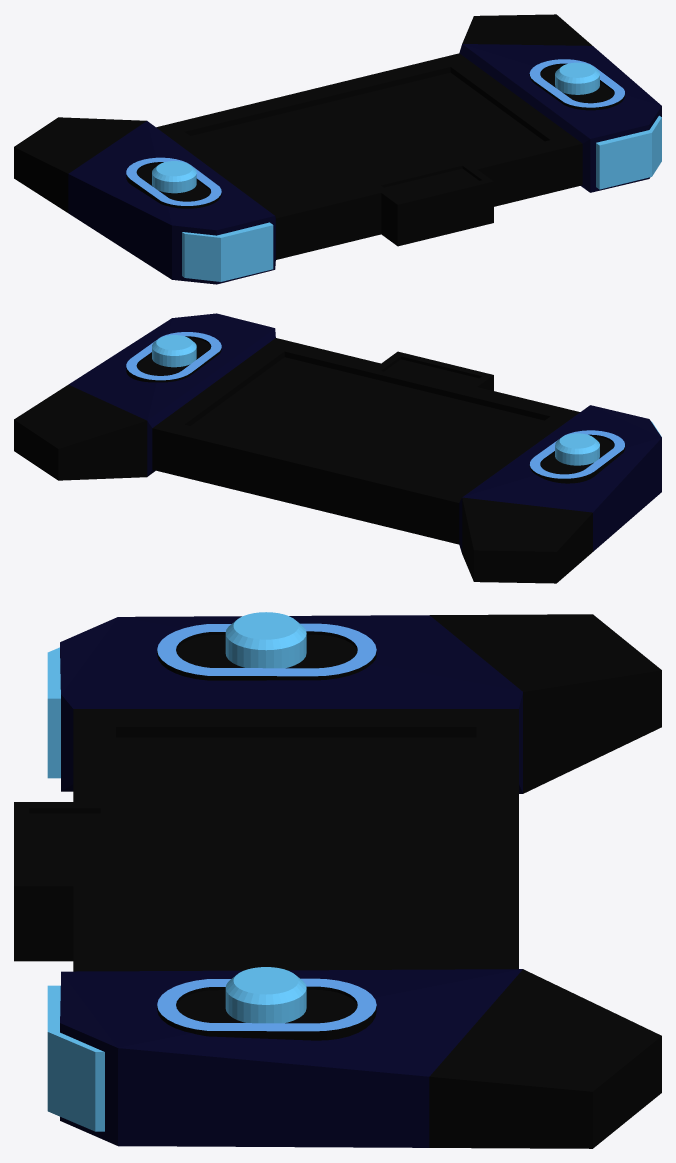
File: Drone_Remote.fbx
3 renders of one model, top to bottom at view 1: azimuth 30°, elevation 25°; view 2: azimuth 150°, elevation 25°; view 3: azimuth 270°, elevation 25°, orthographic. The views are drawn at different scales.
Visible parts, largest first — view 1: Cube, Cube.001, Cylinder, Cylinder.001; view 2: Cube, Cylinder, Cylinder.001; view 3: Cube, Cylinder, Cylinder.001, Cube.001.
Boxes of the visible parts, x1=… form: Cube: x1=14, y1=14, x2=661, y2=284; Cube.001: x1=182, y1=115, x2=661, y2=281; Cylinder: x1=126, y1=59, x2=624, y2=208; Cylinder.001: x1=152, y1=62, x2=599, y2=193; Cube: x1=14, y1=313, x2=661, y2=583; Cylinder: x1=126, y1=332, x2=625, y2=483; Cylinder.001: x1=152, y1=335, x2=599, y2=465; Cube: x1=14, y1=614, x2=661, y2=1148; Cylinder: x1=157, y1=623, x2=376, y2=1040; Cylinder.001: x1=225, y1=612, x2=306, y2=1023; Cube.001: x1=47, y1=647, x2=104, y2=1131.
Size of the model in its own units: 507 by 64.02 by 291.
